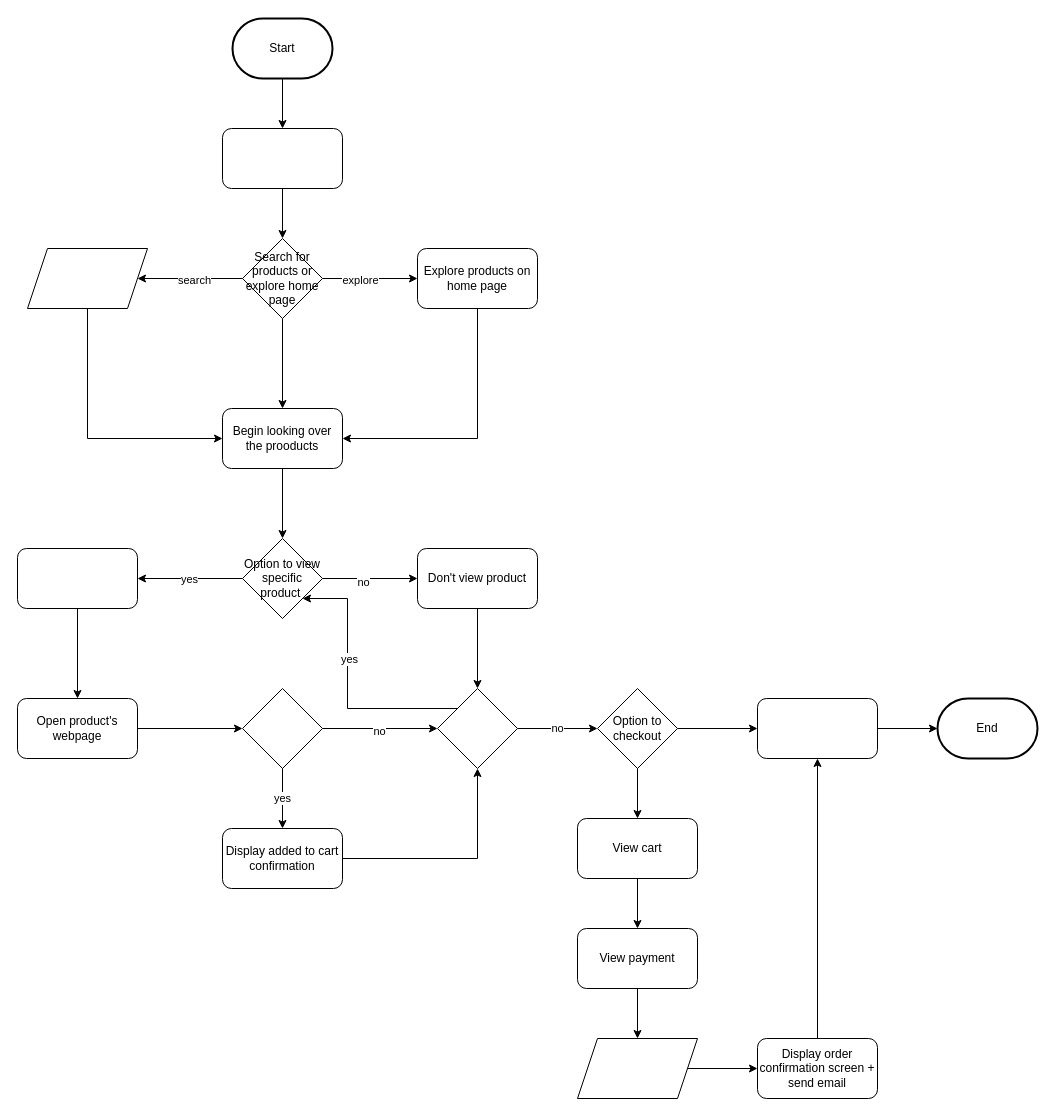
The diagram is 1056 pixels wide and 1116 high, and some of its shapes have lost their labels. Here are the shapes that lost their labels. From the top down, the centre of each, then its label:
At point (282, 158): "Enter website".
At point (87, 278): "Search query".
At point (77, 578): "View product".
At point (282, 728): "Option to add product to cart".
At point (477, 728): "Option to continue shopping".
At point (817, 728): "Exit website".
At point (637, 1068): "Input payment information".
